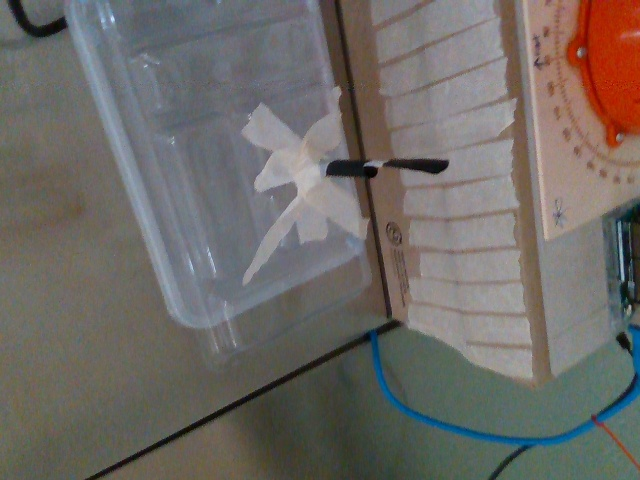test_strip: (364, 154, 450, 175)
